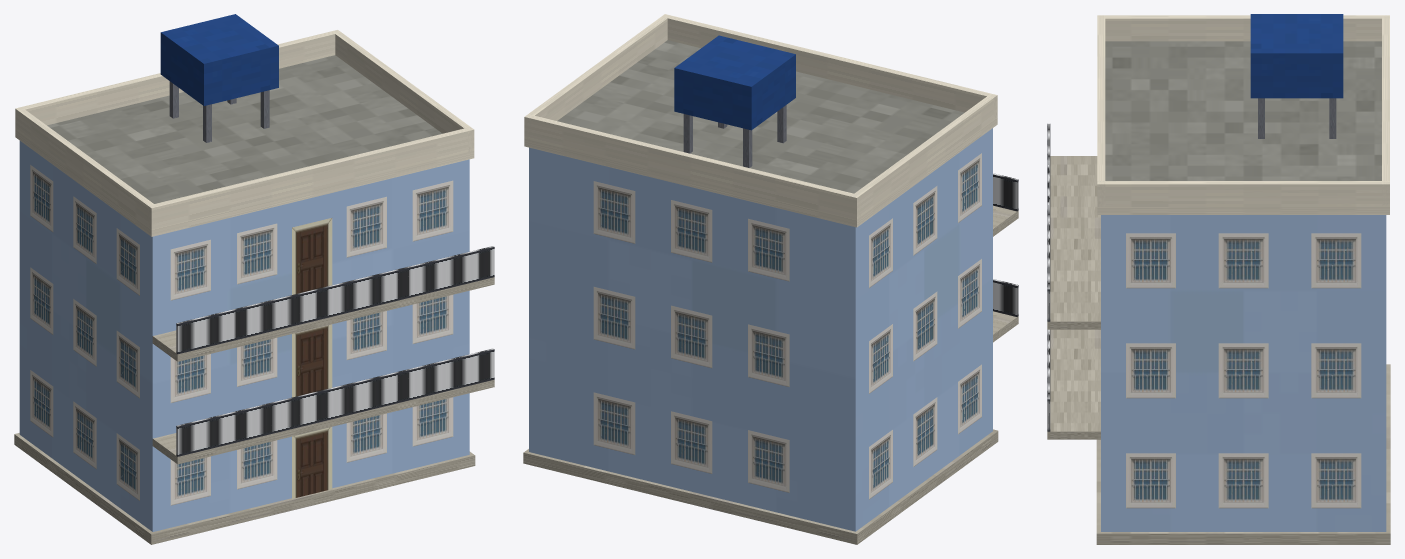
The model's file is flats-sky-far.glb.
3 views of the same model, side by side, from view 1: azimuth 30°, elevation 25°; view 2: azimuth 150°, elevation 25°; view 3: azimuth 270°, elevation 25° (orthographic). The views are drawn at different scales.
Parts seen in each view (by area): view 1: flats-sky; view 2: flats-sky; view 3: flats-sky.
Part boxes in pixels (x1=…): flats-sky: x1=14, y1=14, x2=494, y2=544; flats-sky: x1=523, y1=14, x2=1018, y2=544; flats-sky: x1=1047, y1=14, x2=1390, y2=544.
Bounding box in the file's own units: 11.24 × 13.2 × 9.62.
1 material, 1 textured.
